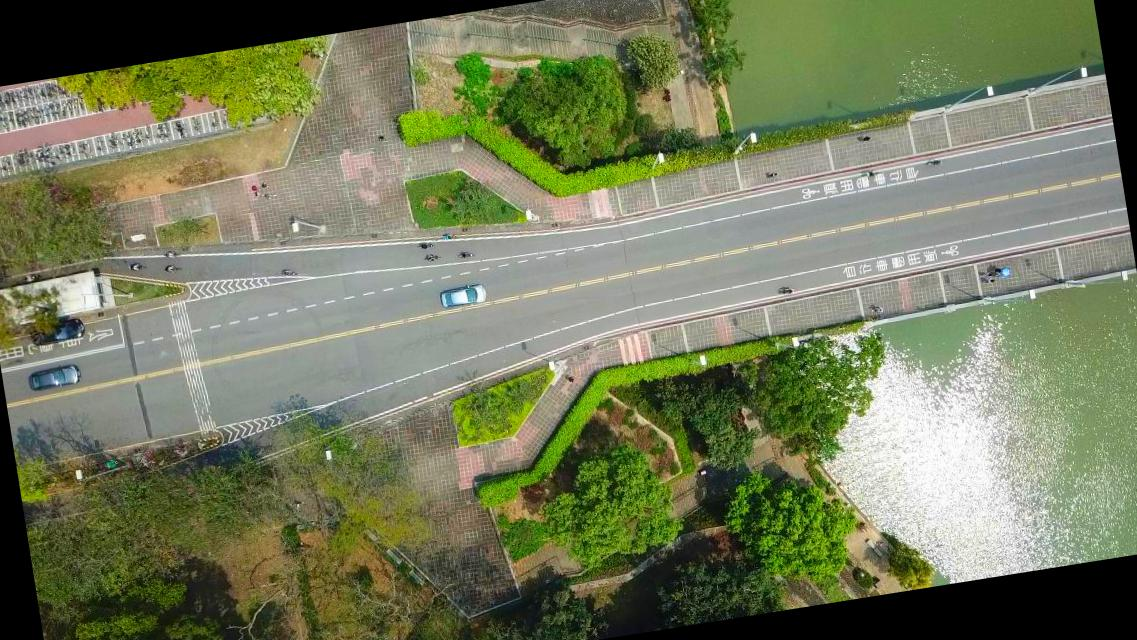vehicle: (28, 316, 86, 346), (26, 362, 82, 392), (439, 282, 488, 310)
